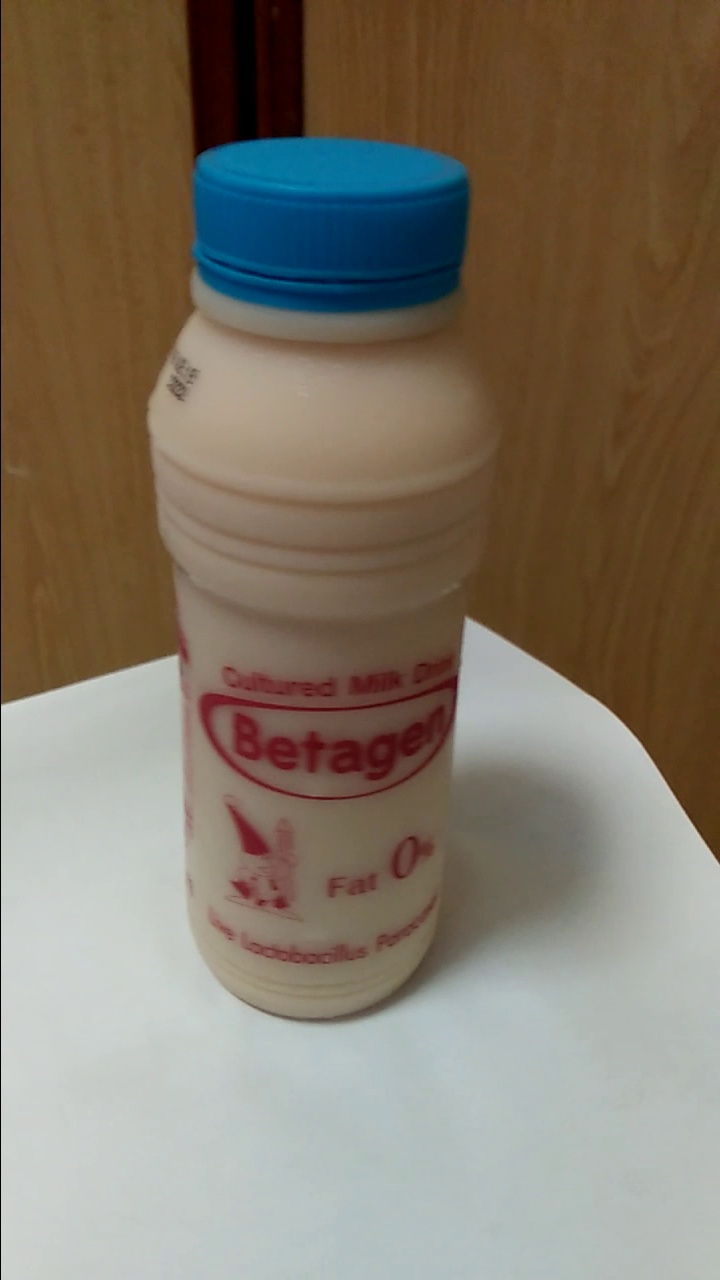mlik2: (154, 143, 464, 1023)
